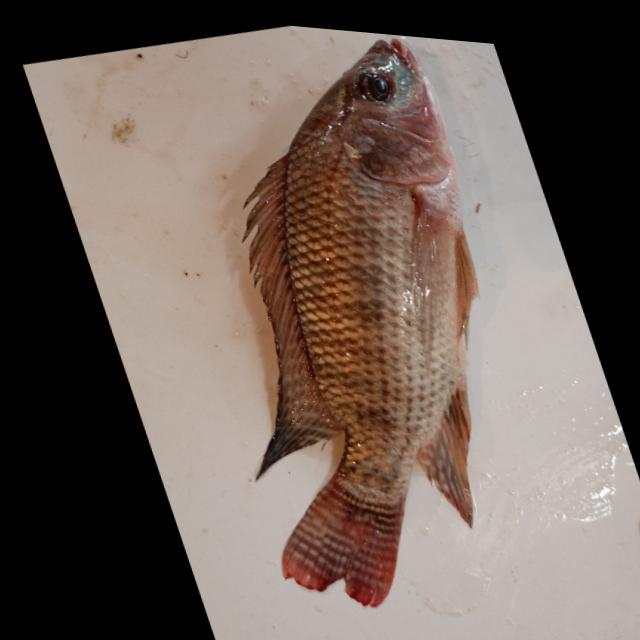Tilapia: (105, 9, 597, 640)
